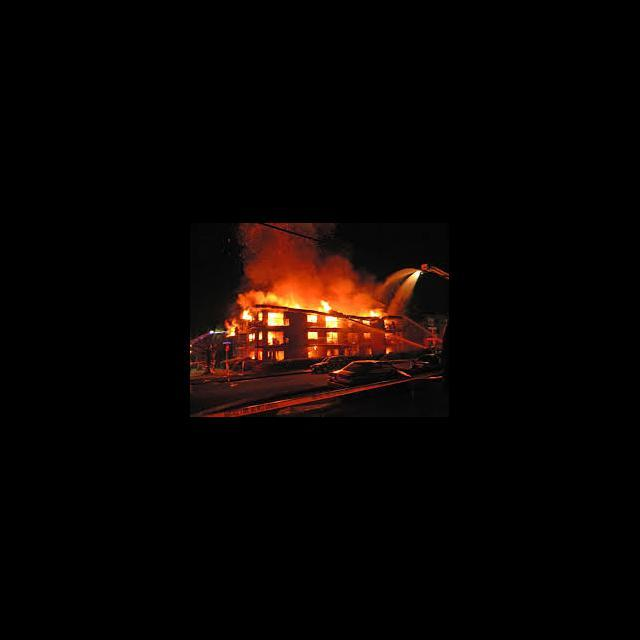Fire: (268, 330, 284, 345), (268, 312, 284, 326), (318, 302, 334, 314), (368, 307, 384, 318), (240, 310, 255, 320), (326, 317, 339, 328), (327, 332, 338, 344), (308, 314, 318, 324), (277, 350, 285, 361), (292, 301, 302, 309), (308, 332, 318, 339), (385, 318, 396, 324), (248, 333, 254, 342), (385, 348, 393, 354), (258, 312, 264, 320), (259, 351, 263, 360), (313, 346, 318, 351), (252, 351, 255, 359), (260, 332, 262, 341)
Smoke: (240, 252, 379, 292)
